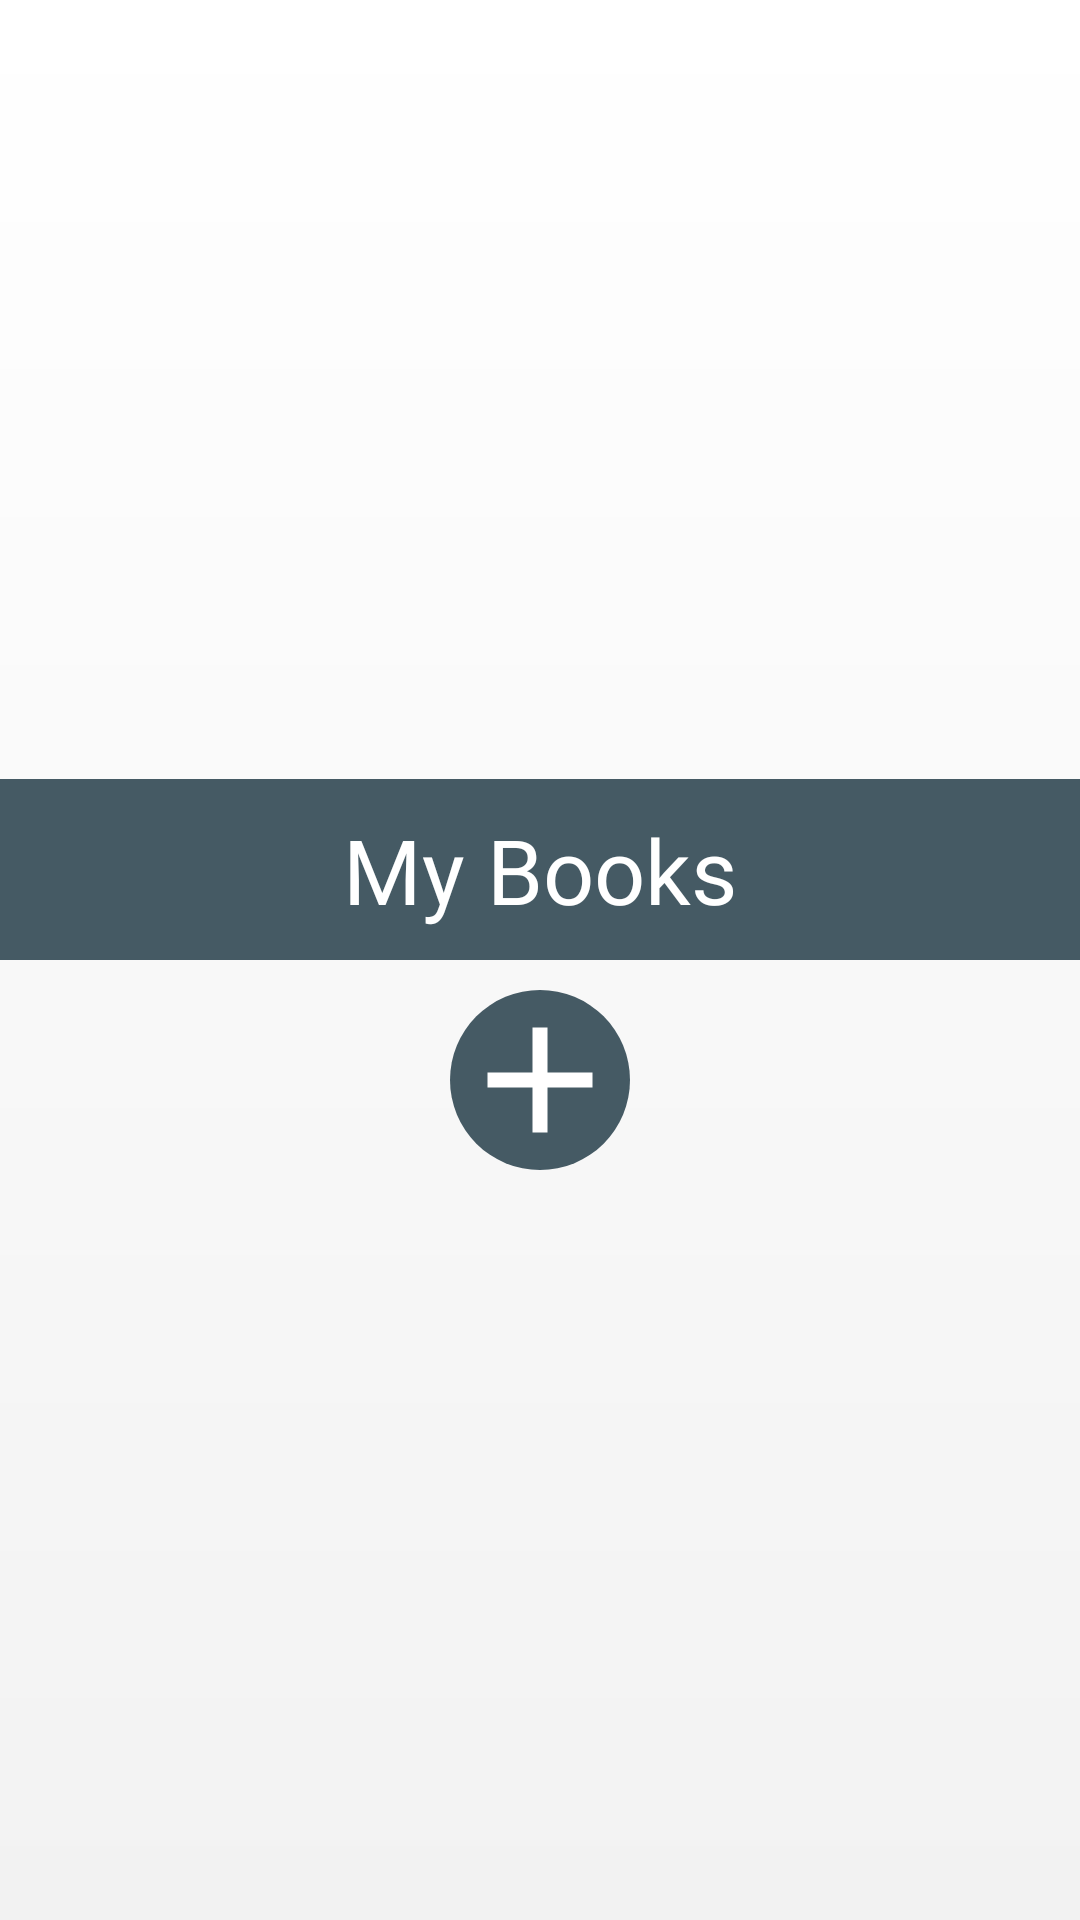

Icons on this 1080x1920 Android screen, each with its box as (x1, y1, x2, y2):
add: (450, 990, 630, 1170)
